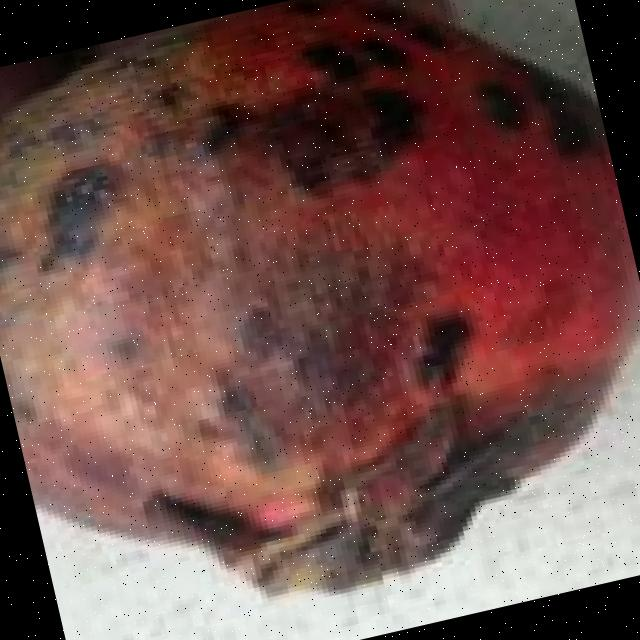Bad_Pomegranate-0-1-day: (0, 0, 640, 598)
